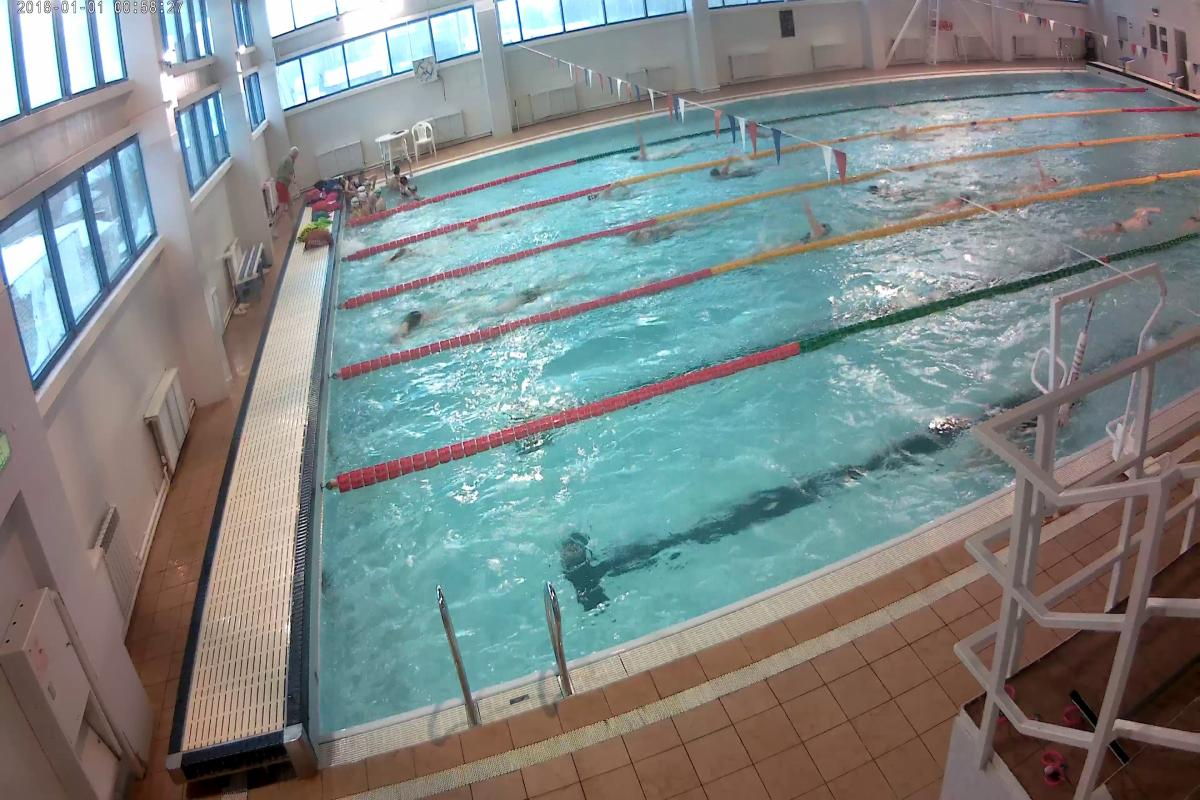swimmer: (780, 210, 872, 247), (617, 219, 711, 254), (1084, 206, 1168, 244), (395, 300, 474, 329), (1005, 171, 1078, 193), (502, 282, 561, 306), (948, 189, 982, 216), (872, 176, 924, 192)
